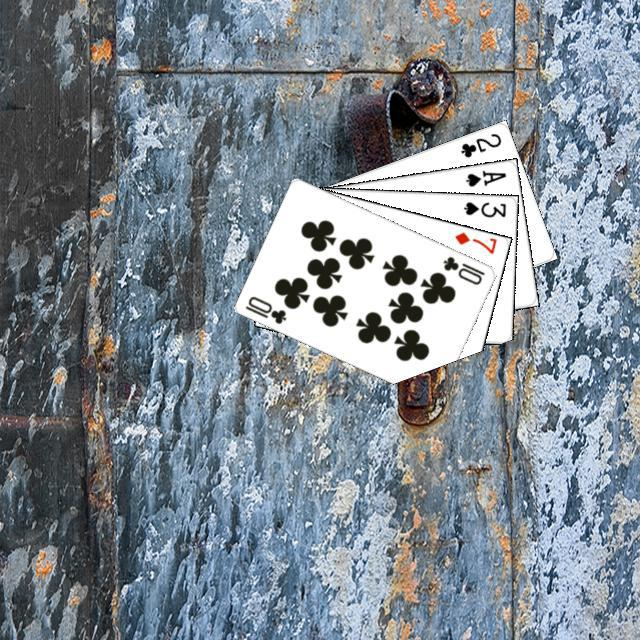10c: (438, 251, 487, 287), (240, 291, 288, 326)
2c: (456, 128, 503, 159)
3s: (459, 197, 507, 219)
7d: (450, 227, 498, 256)
As: (461, 165, 508, 188)
